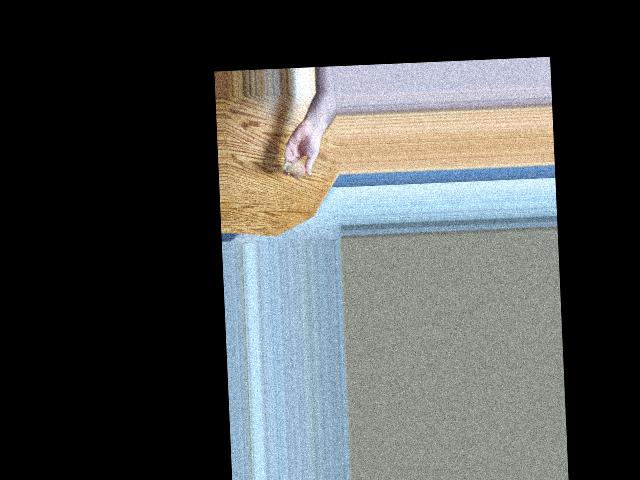sweet_potato: (283, 160, 309, 185)
